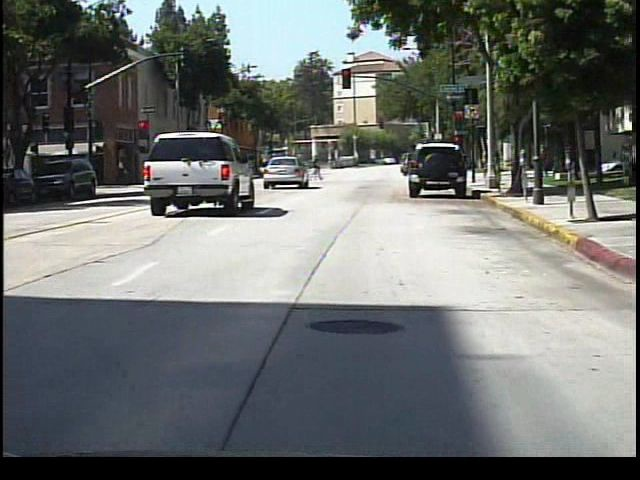person: (540, 141, 555, 182), (461, 153, 477, 183), (313, 155, 326, 184)
